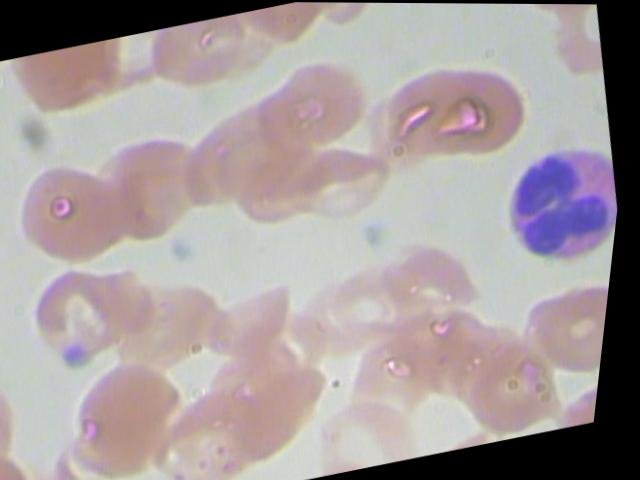Platelets: (67, 341, 101, 373)
Red Blood Cells: (7, 252, 155, 386), (0, 144, 139, 278), (88, 127, 226, 254), (148, 372, 296, 479), (73, 347, 202, 461), (258, 43, 386, 156), (511, 257, 617, 392), (415, 58, 544, 166), (337, 324, 465, 431), (371, 228, 495, 326), (278, 131, 403, 228), (192, 274, 316, 371), (142, 11, 266, 108), (316, 263, 412, 350), (506, 3, 597, 22)
White Blood Cells: (482, 137, 627, 278)
